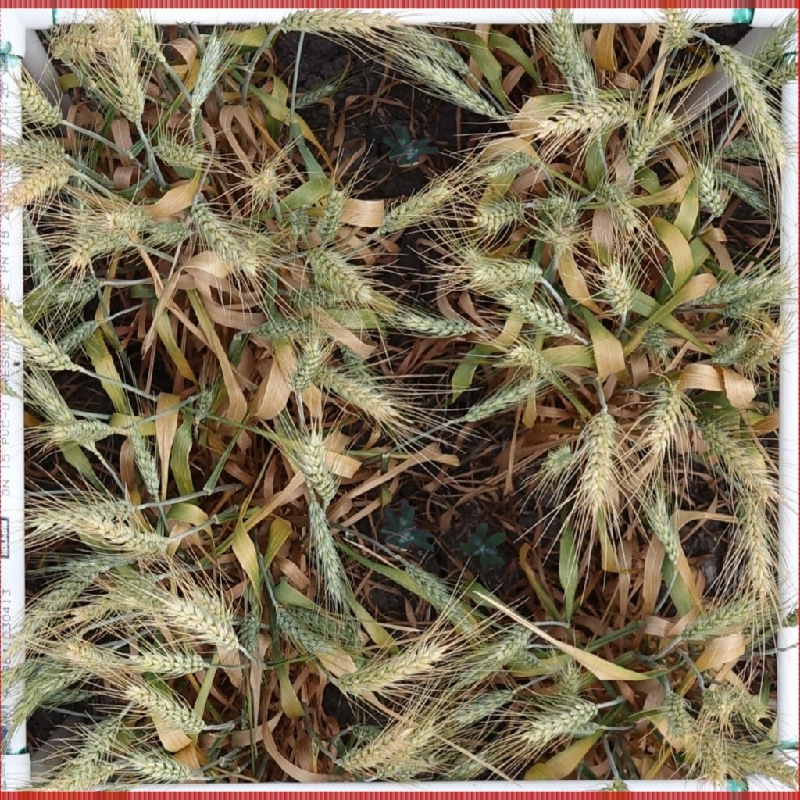spikelet: (711, 38, 789, 158), (400, 49, 504, 120), (693, 407, 776, 494), (335, 638, 447, 696), (1, 298, 84, 374), (23, 552, 109, 624), (185, 194, 260, 276), (402, 559, 481, 635), (50, 711, 125, 790), (1, 659, 85, 727), (158, 586, 243, 652), (543, 5, 603, 97), (673, 590, 773, 645), (731, 485, 781, 595), (312, 362, 402, 423), (455, 620, 536, 684), (535, 92, 642, 140), (302, 496, 350, 602), (122, 677, 210, 734), (31, 491, 141, 536), (276, 1, 402, 40), (103, 21, 150, 125), (300, 242, 376, 304), (375, 177, 456, 235), (458, 373, 549, 424), (578, 405, 622, 510), (716, 736, 798, 791), (696, 266, 793, 312), (72, 515, 176, 557), (335, 722, 421, 772), (495, 285, 575, 338), (521, 695, 603, 746), (64, 213, 144, 265), (182, 32, 229, 119), (1, 155, 78, 206), (399, 23, 473, 76), (291, 426, 340, 503), (122, 411, 165, 497), (270, 601, 336, 657), (643, 377, 688, 457), (643, 489, 689, 566), (624, 109, 677, 170), (748, 11, 796, 78), (709, 162, 771, 213), (291, 605, 364, 647), (128, 642, 212, 678), (465, 254, 548, 290), (111, 7, 167, 60), (391, 306, 475, 340), (699, 678, 761, 724), (773, 514, 799, 622), (125, 745, 200, 782), (449, 684, 515, 726), (593, 175, 642, 231), (1, 305, 29, 403), (46, 412, 116, 451), (15, 74, 66, 127), (44, 635, 119, 671), (284, 332, 327, 394), (595, 255, 637, 316), (45, 23, 106, 65), (48, 756, 121, 791), (1, 129, 71, 165), (499, 340, 560, 380), (150, 134, 210, 172), (313, 182, 349, 244), (657, 685, 696, 742), (690, 158, 728, 216), (251, 312, 324, 342), (478, 145, 537, 181), (22, 216, 52, 286), (470, 196, 526, 233), (696, 728, 732, 785), (656, 3, 698, 51), (49, 272, 106, 306), (549, 659, 585, 708), (533, 189, 582, 225), (290, 77, 341, 111), (707, 329, 753, 366), (144, 213, 194, 247), (245, 160, 285, 202), (237, 603, 264, 659), (59, 315, 102, 350), (540, 219, 580, 255), (540, 440, 577, 478), (288, 284, 343, 309), (638, 319, 673, 358), (191, 385, 217, 425), (766, 61, 800, 91), (343, 719, 386, 742), (285, 201, 312, 237)
weed: (377, 496, 443, 558), (378, 111, 442, 174), (455, 516, 517, 579)
